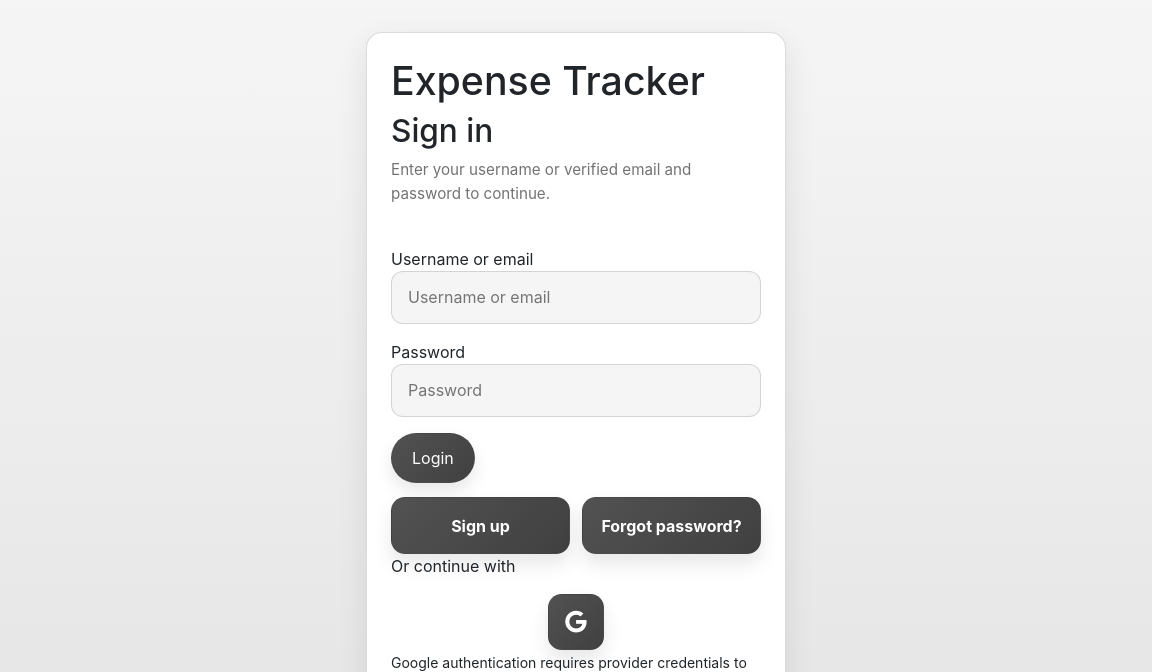
Login unit tests › displays the expected error for an invalid registration email
The width and height of the screenshot is (1152, 672).
Click the button "Sign up" at (480, 526), box [391, 497, 570, 554]
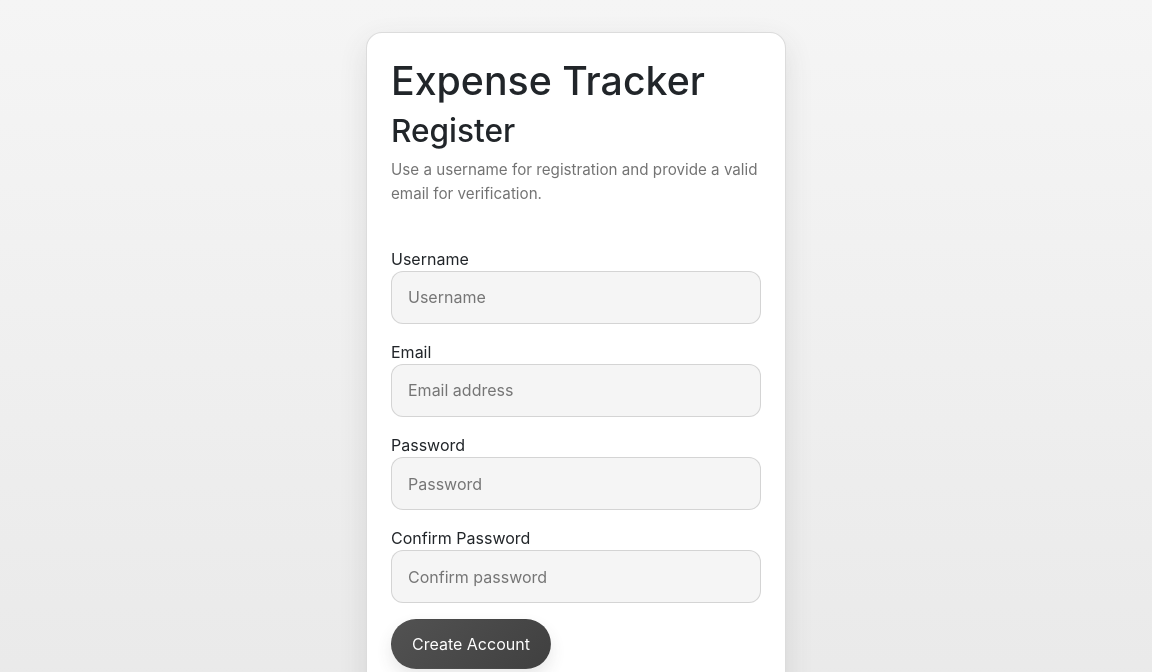
Type "invalid-email-user" into the field labelled "Username" at (576, 297), box [391, 271, 761, 324]
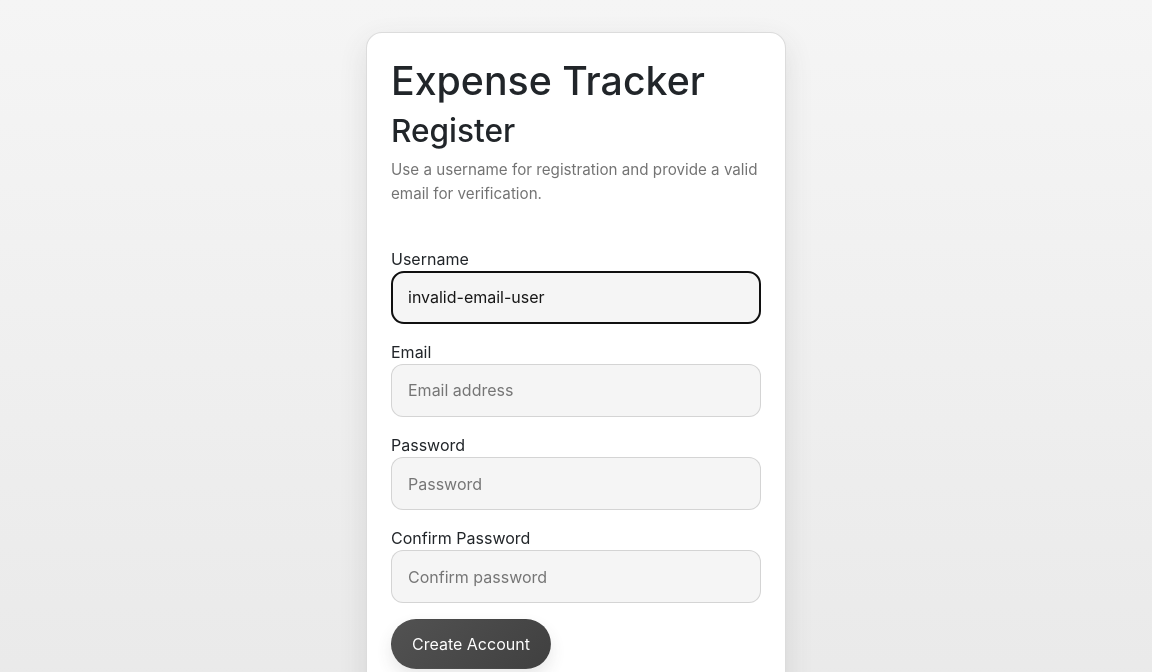
Type "not-an-email" into the field labelled "Email" at (576, 390), box [391, 364, 761, 417]
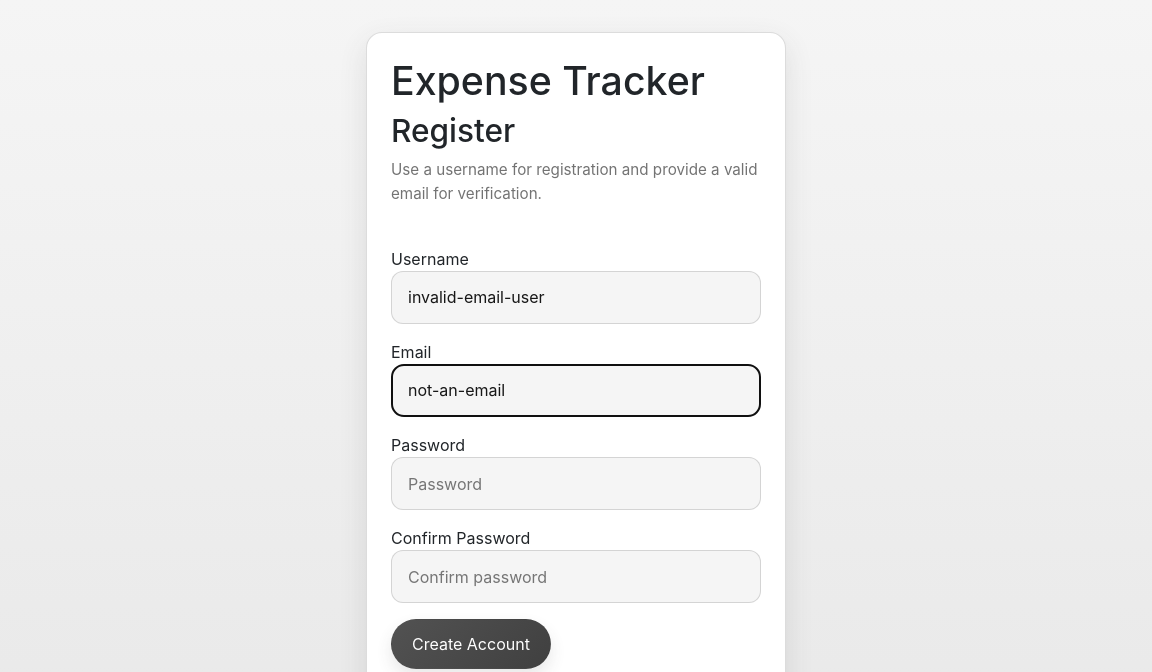
Type "StrongPassword1!" into the password field labelled "Password" at (576, 484), box [391, 457, 761, 510]
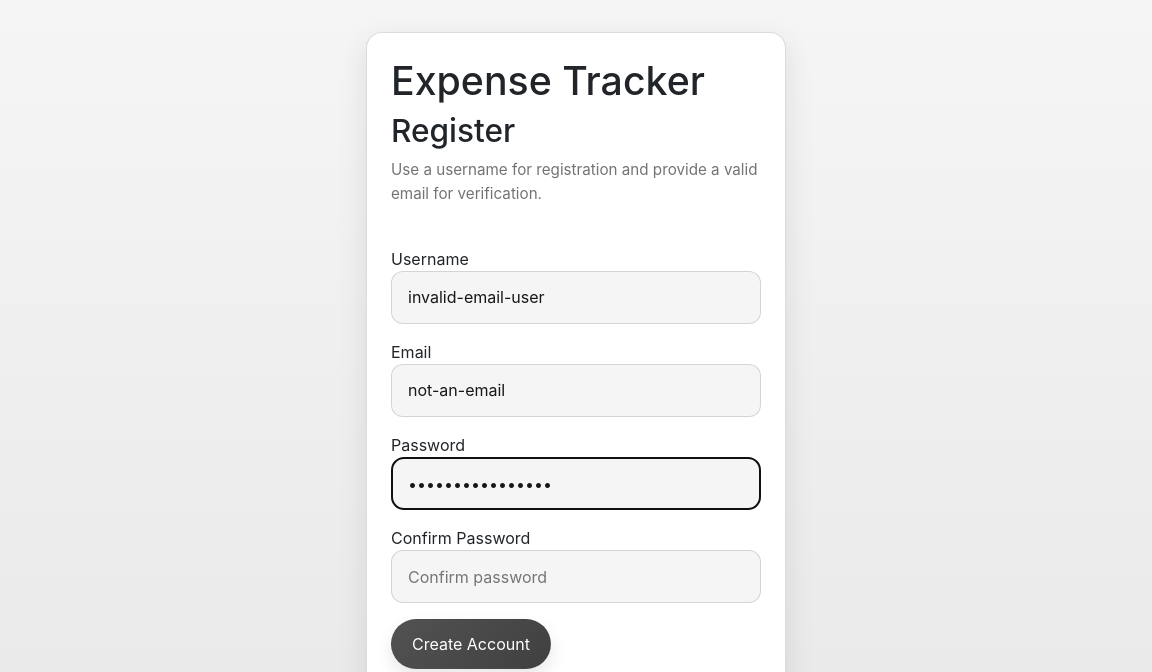
Type "StrongPassword1!" into the password field labelled "Confirm Password" at (576, 577), box [391, 550, 761, 603]
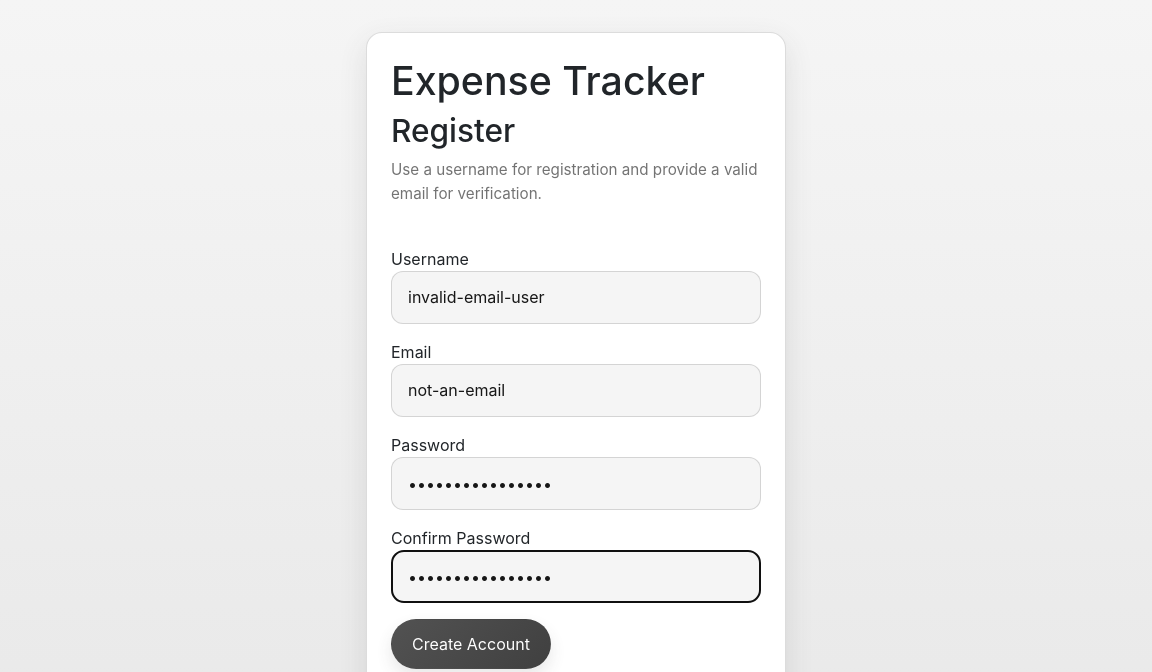
Click the button "Create Account" at (471, 644), box [391, 619, 551, 669]
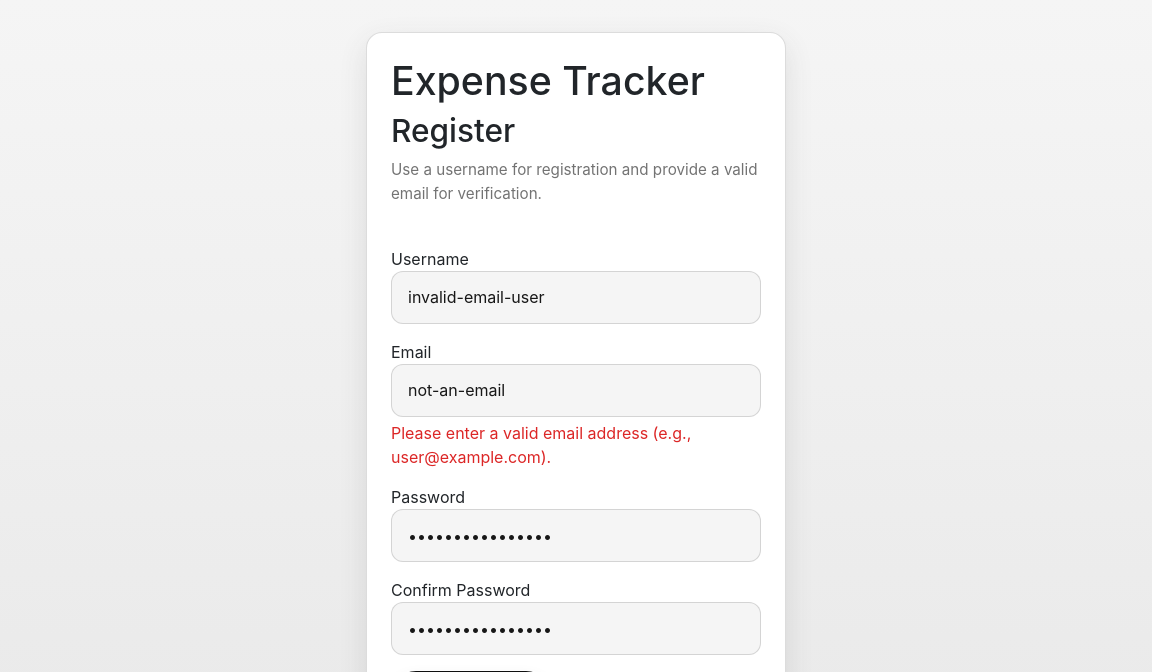
Expected: the text "Please enter a valid email address (e.g., user@example.com)." is shown, [391, 423, 691, 467]
